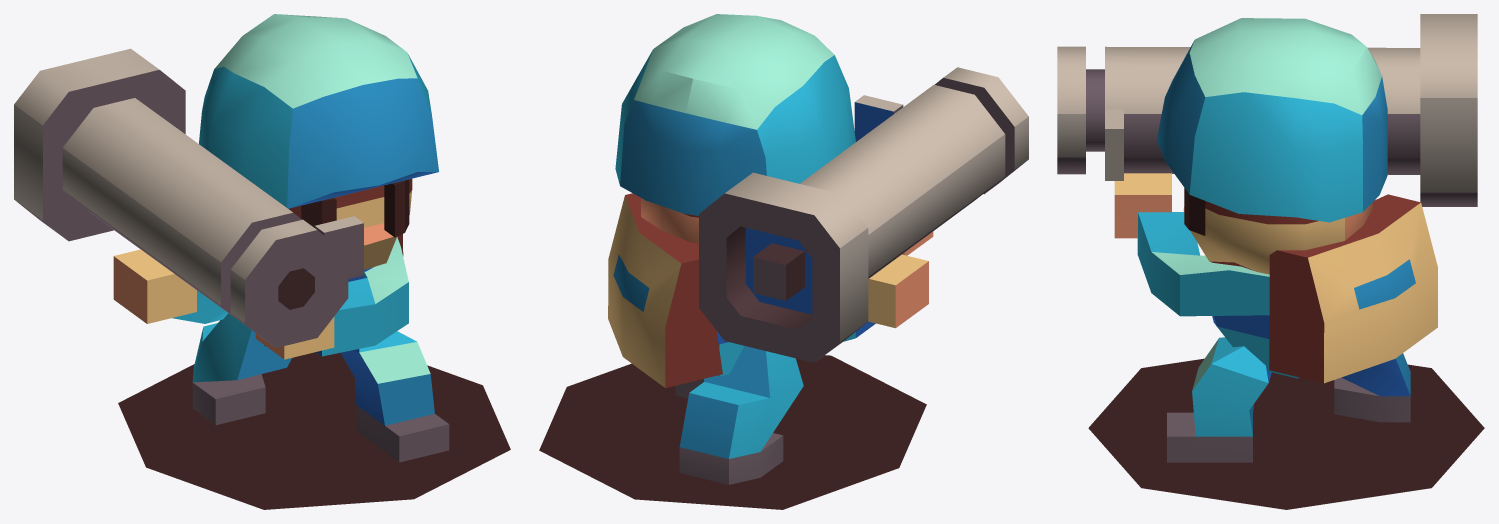
The model's file is MechMesh.AzureAsteroid.glb.
3 renders of one model, left to right at view 1: azimuth 30°, elevation 25°; view 2: azimuth 150°, elevation 25°; view 3: azimuth 270°, elevation 25°, orthographic.
Parts seen in each view (by area): view 1: MechMesh.AzureAsteroid; view 2: MechMesh.AzureAsteroid; view 3: MechMesh.AzureAsteroid.
Part boxes in pixels (x1=…): MechMesh.AzureAsteroid: x1=14, y1=14, x2=510, y2=509; MechMesh.AzureAsteroid: x1=539, y1=14, x2=1028, y2=509; MechMesh.AzureAsteroid: x1=1057, y1=14, x2=1484, y2=509.
Bounding box in the file's own units: 2.24 × 2.3 × 2.24.
Materials: 1 (1 with a texture image).
